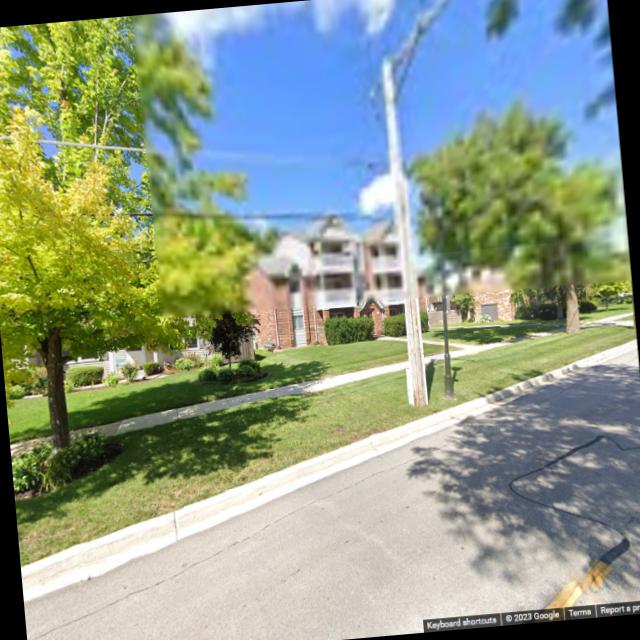House: (0, 208, 410, 390), (412, 242, 562, 330)
